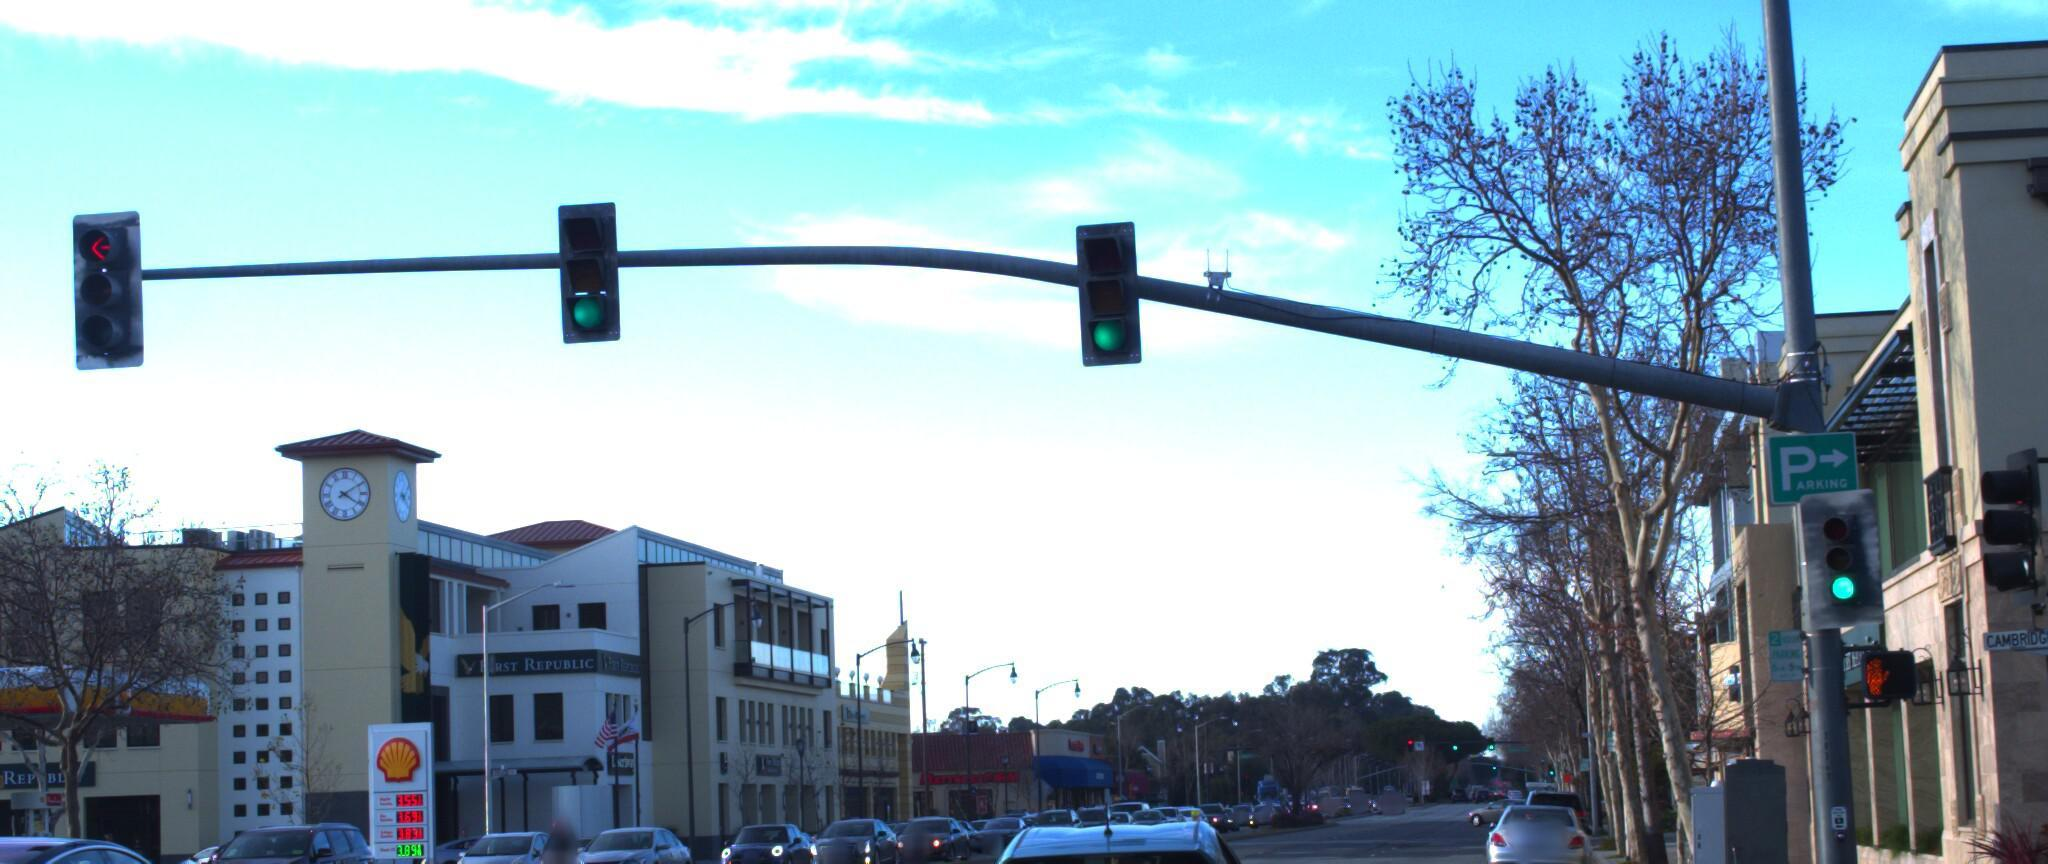car: (942, 797, 1283, 864), (0, 810, 272, 864), (189, 801, 408, 864), (1465, 790, 1580, 864), (564, 810, 707, 864), (435, 816, 579, 864), (709, 807, 822, 864), (0, 835, 148, 864)
motorcycle: (528, 797, 596, 864)
